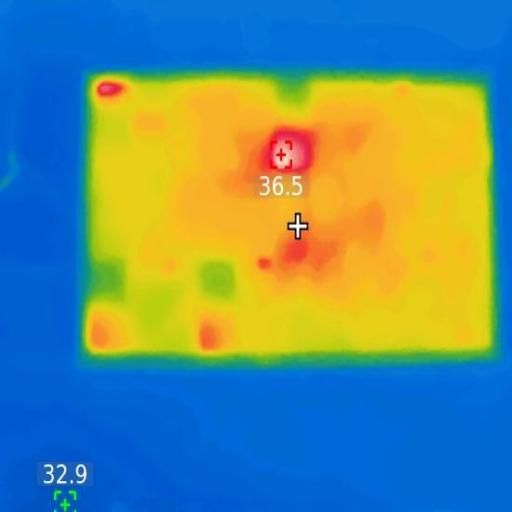hotspot: (270, 127, 318, 178), (282, 228, 320, 263), (98, 81, 128, 98), (201, 330, 217, 349), (260, 251, 270, 272)
